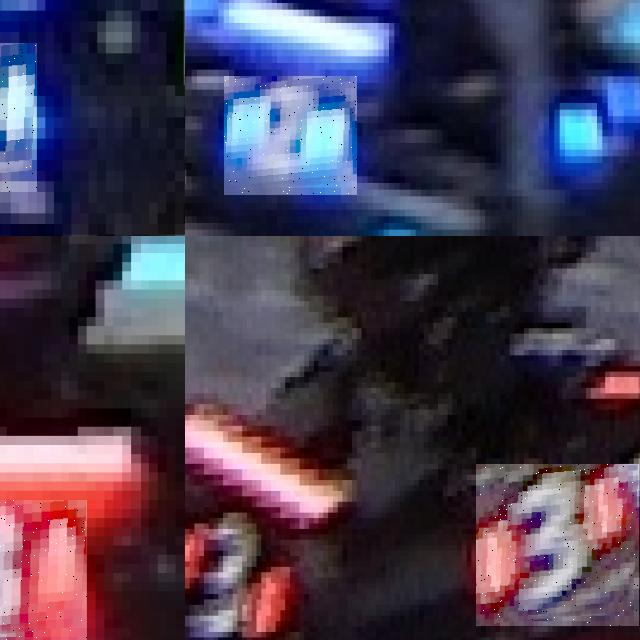B2: (224, 76, 357, 196)
R3: (476, 464, 639, 626), (185, 507, 294, 640), (0, 499, 86, 640)
